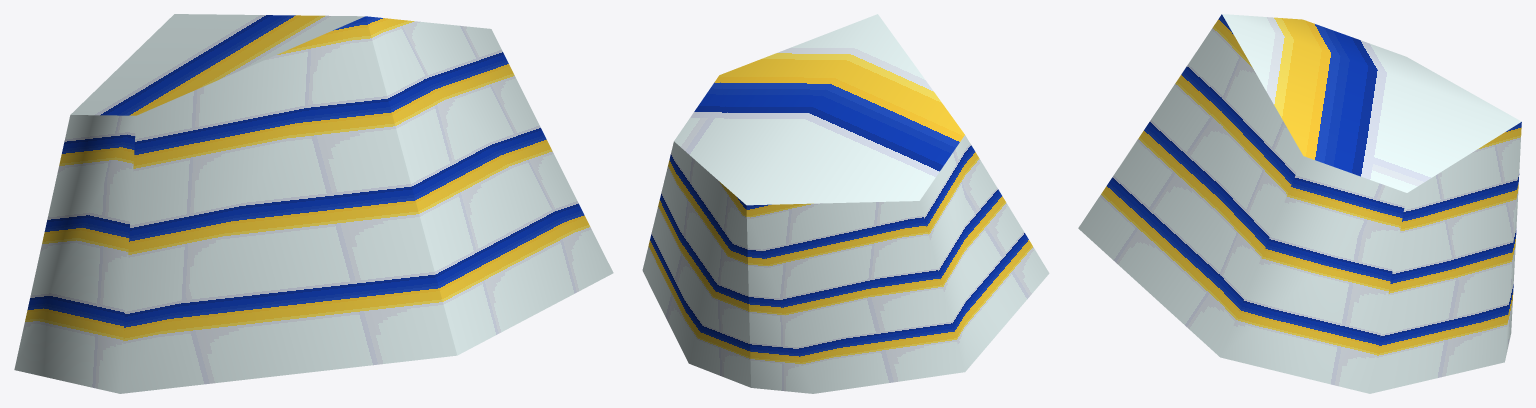
File: code_head64.gltf
3 views of the same model, side by side, from view 1: azimuth 30°, elevation 25°; view 2: azimuth 150°, elevation 25°; view 3: azimuth 270°, elevation 25° (orthographic). The views are drawn at different scales.
Parts seen in each view (by area): view 1: code_head64; view 2: code_head64; view 3: code_head64.
Boxes of the visible parts, x1,y1,x2,y2 form: code_head64: (14, 14, 613, 393); code_head64: (642, 14, 1049, 393); code_head64: (1078, 14, 1521, 393).
Bounding box in the file's own units: 0.6565 × 0.5164 × 0.6497.
Materials: 1 (1 with a texture image).
